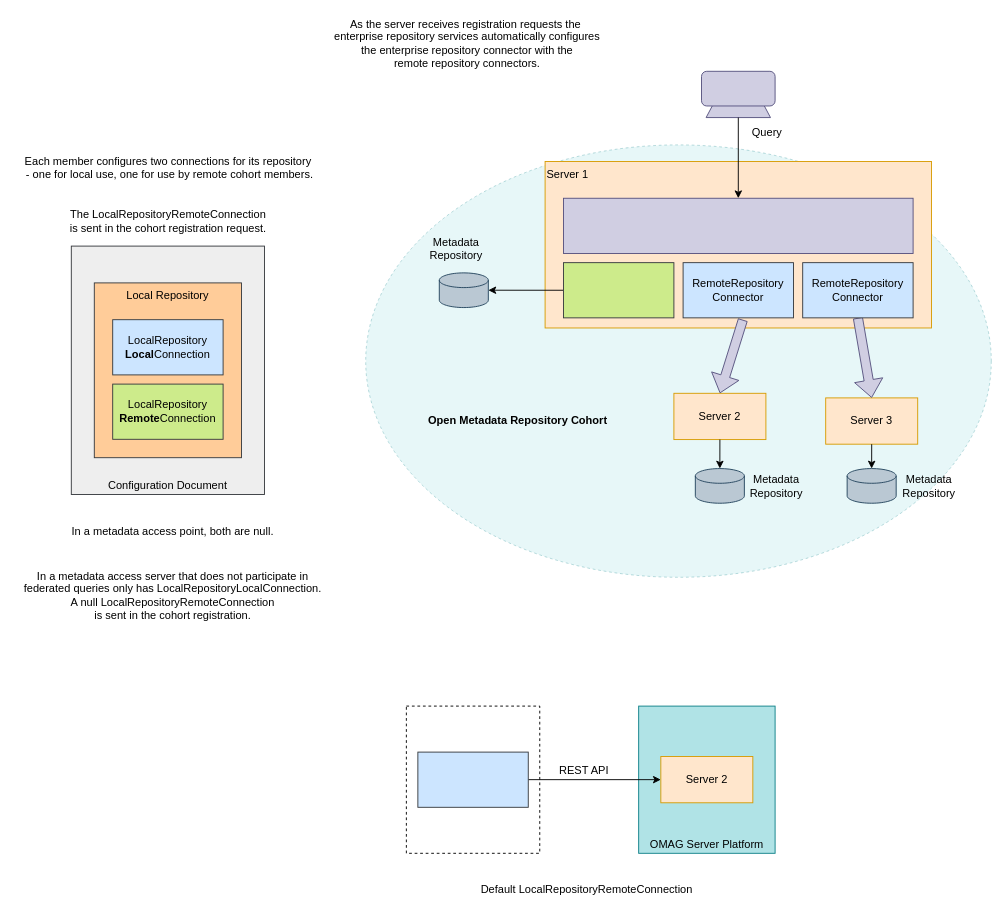
This 1007x914 diagram has some shape labels left out. Each missing label, with the centre of its shape:
"Enterprise Repository Connector" goes at (x=738, y=225).
"LocalRepository Connector" goes at (x=618, y=290).
"OMRSREST Repository Connector" goes at (x=472, y=779).
